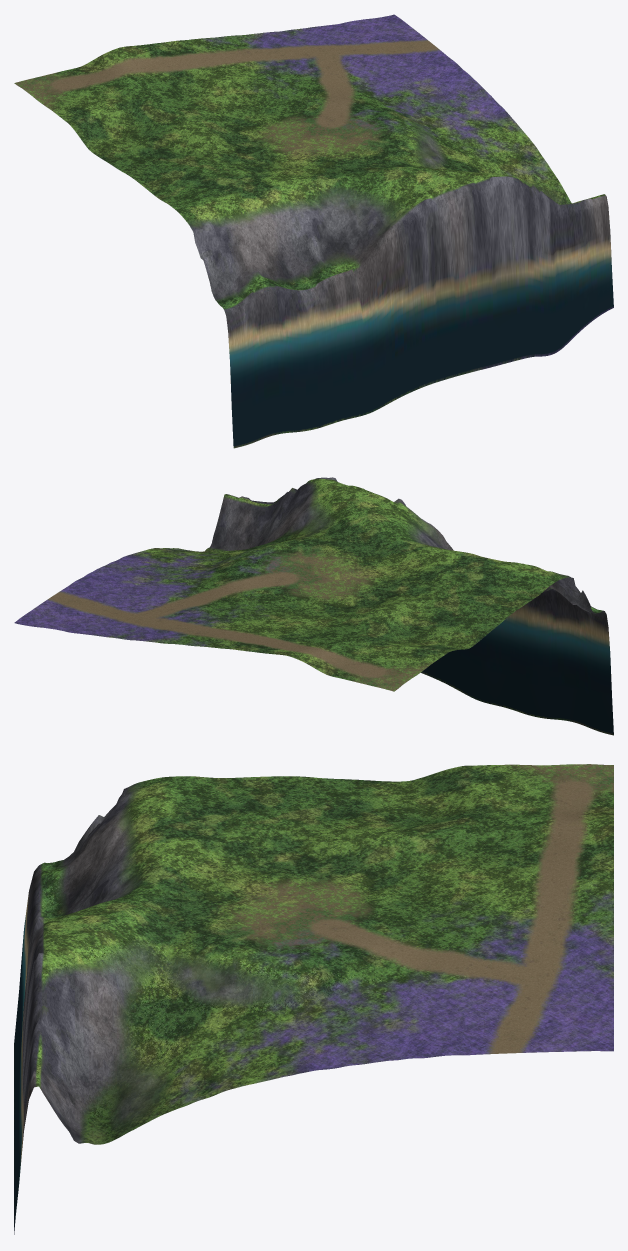
The picture shows the model from 3 angles, top to bottom: view 1: azimuth 30°, elevation 25°; view 2: azimuth 150°, elevation 25°; view 3: azimuth 270°, elevation 25°; orthographic projection. The views are drawn at different scales.
Visible parts, largest first — view 1: t064_000; view 2: t064_000; view 3: t064_000.
Boxes of the visible parts, <box> form: t064_000: <box>14,14,613,448</box>; t064_000: <box>14,477,613,735</box>; t064_000: <box>14,764,613,1234</box>.
Size of the model in its own units: 64 by 34.55 by 64.
Materials: 1 (1 with a texture image).
